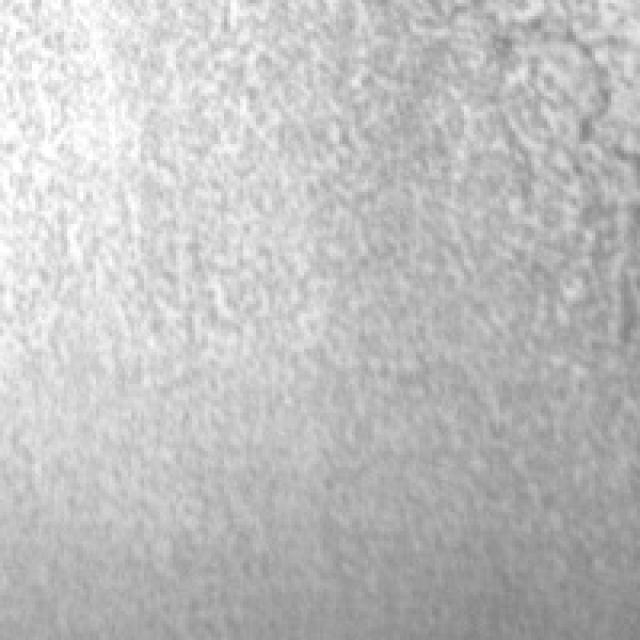pitted_surface: (67, 0, 634, 448)
